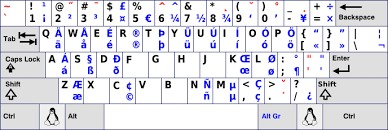keyboard: (4, 0, 388, 130)
